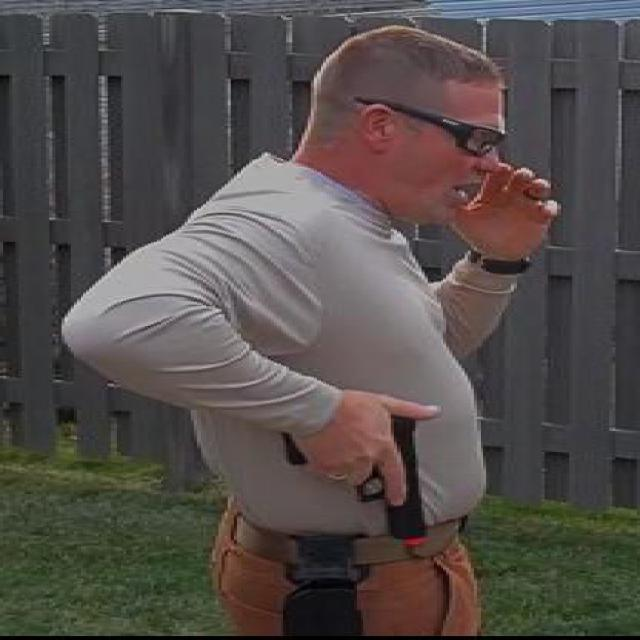gun: (274, 397, 431, 545)
